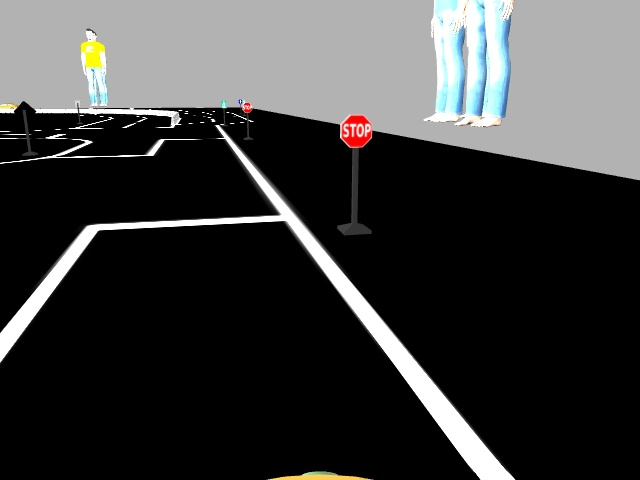Stop: (341, 114, 371, 147), (242, 102, 251, 112)
